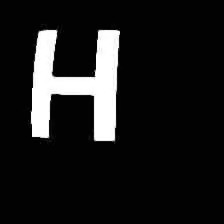LTR_H: (21, 21, 128, 150)
